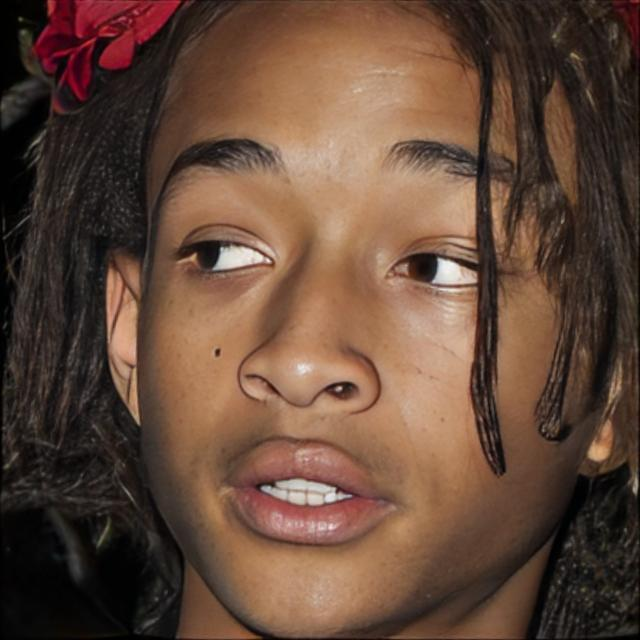surprise: (136, 0, 620, 640)
